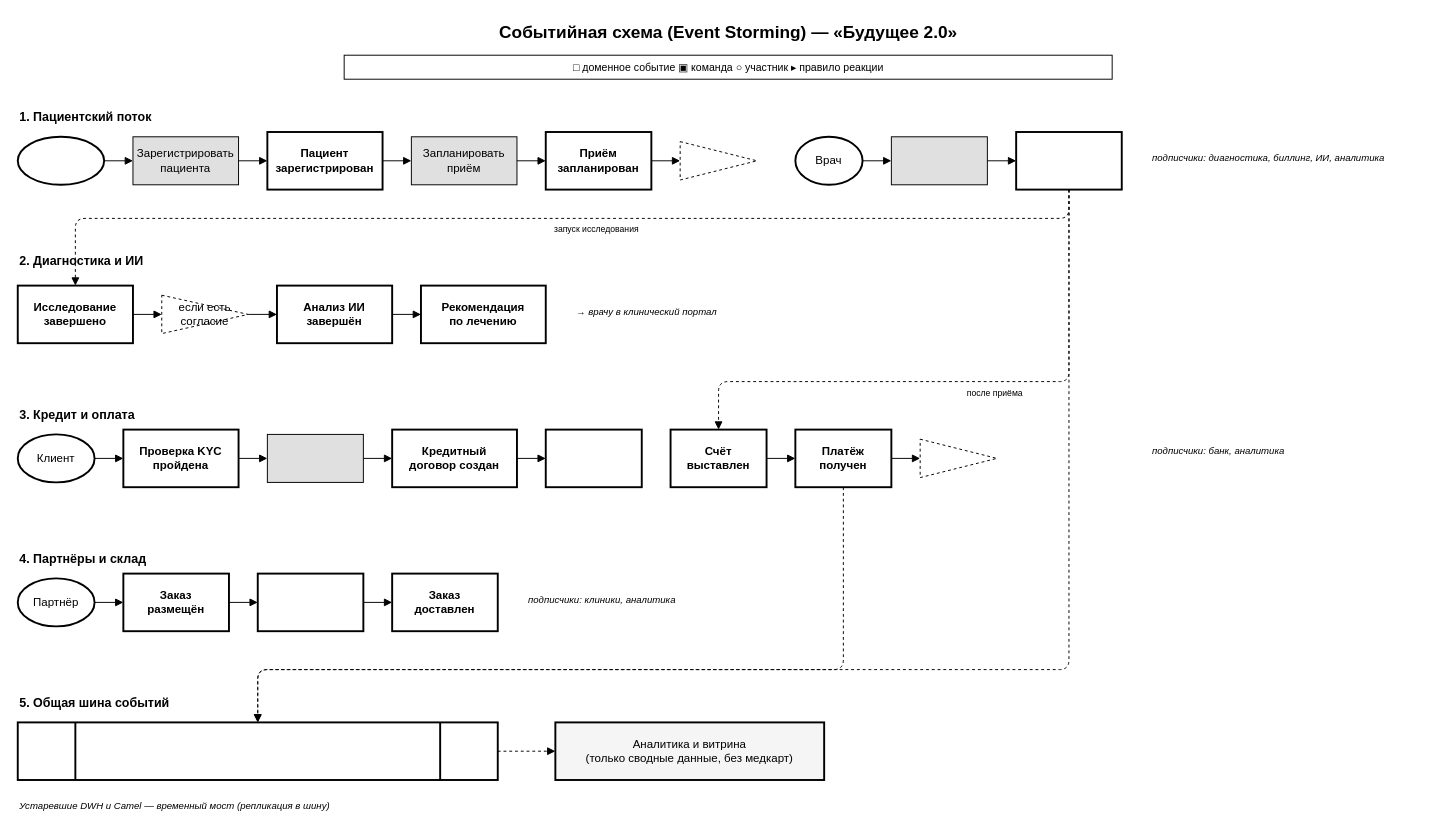
The diagram is 1435 pixels wide and 834 high, and some of its shapes have lost their labels. The box of each missing label's shape, as (x1, y1, x2, y2) in pixels:
Завершить приём: (890, 136, 987, 185)
Кредит выдан: (544, 428, 642, 488)
Приём завершён: (1015, 131, 1122, 190)
Регистратор: (16, 135, 105, 185)
Резерв на складе: (256, 572, 364, 632)
Создать договор: (266, 433, 363, 482)
Шина доменных событий Все домены публикуют и подписываются асинхронно: (16, 721, 498, 780)
→ закрыть счёт: (919, 438, 997, 478)
→ нагрузка врача: (679, 141, 757, 180)
